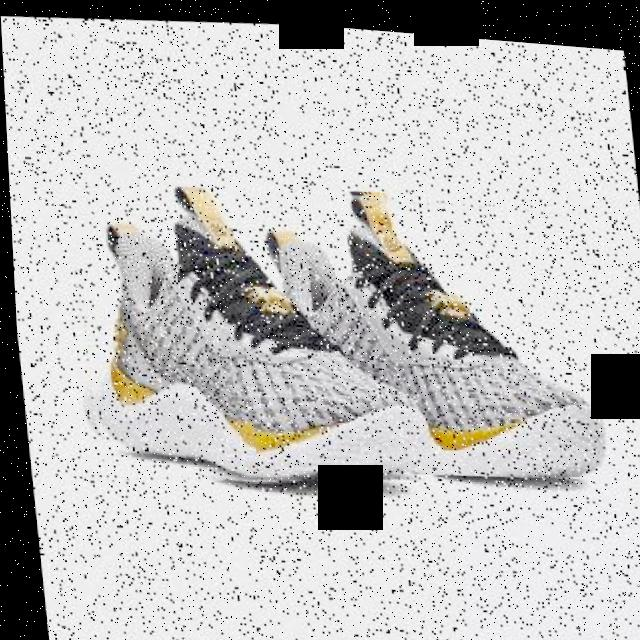shoe: (57, 164, 431, 501), (226, 165, 606, 488)
